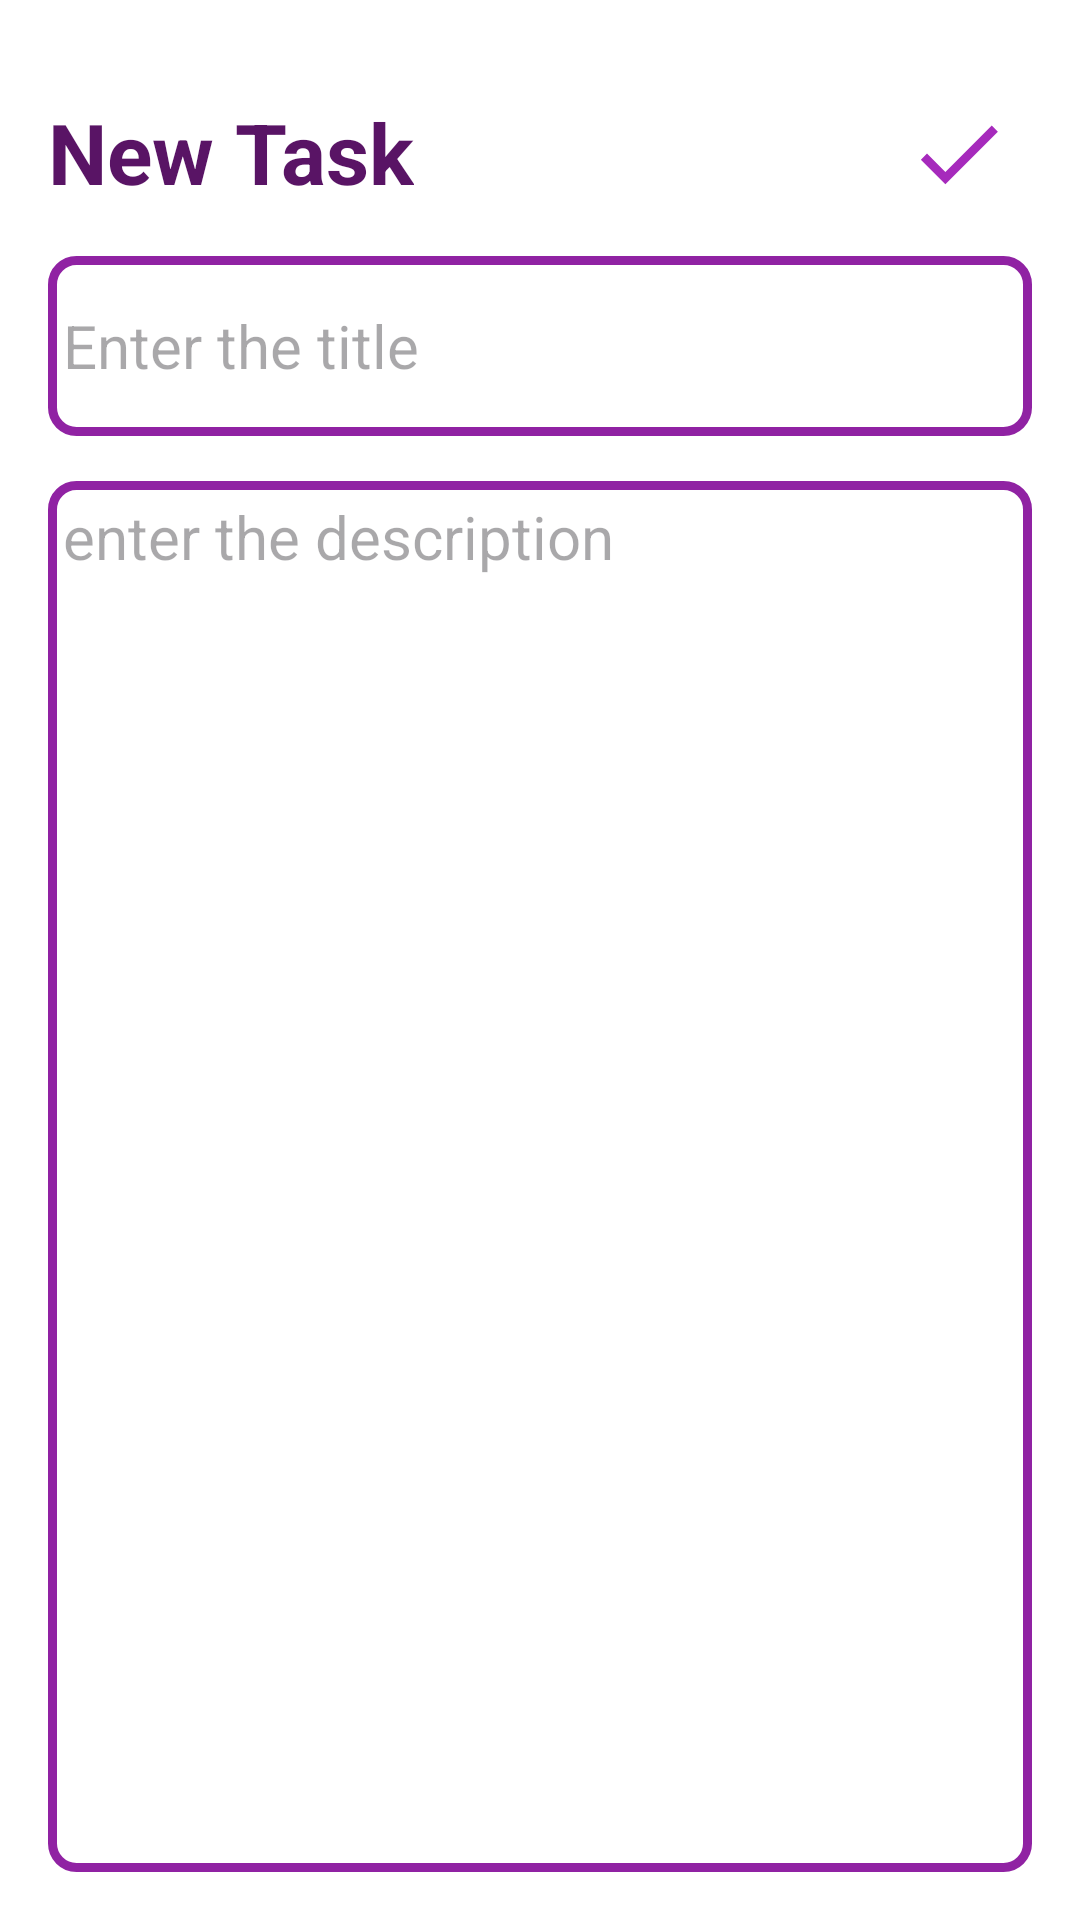

Icons on this 1080 × 1920 Android screen, each with the point to tap as [x,y]:
done: [959,154]
